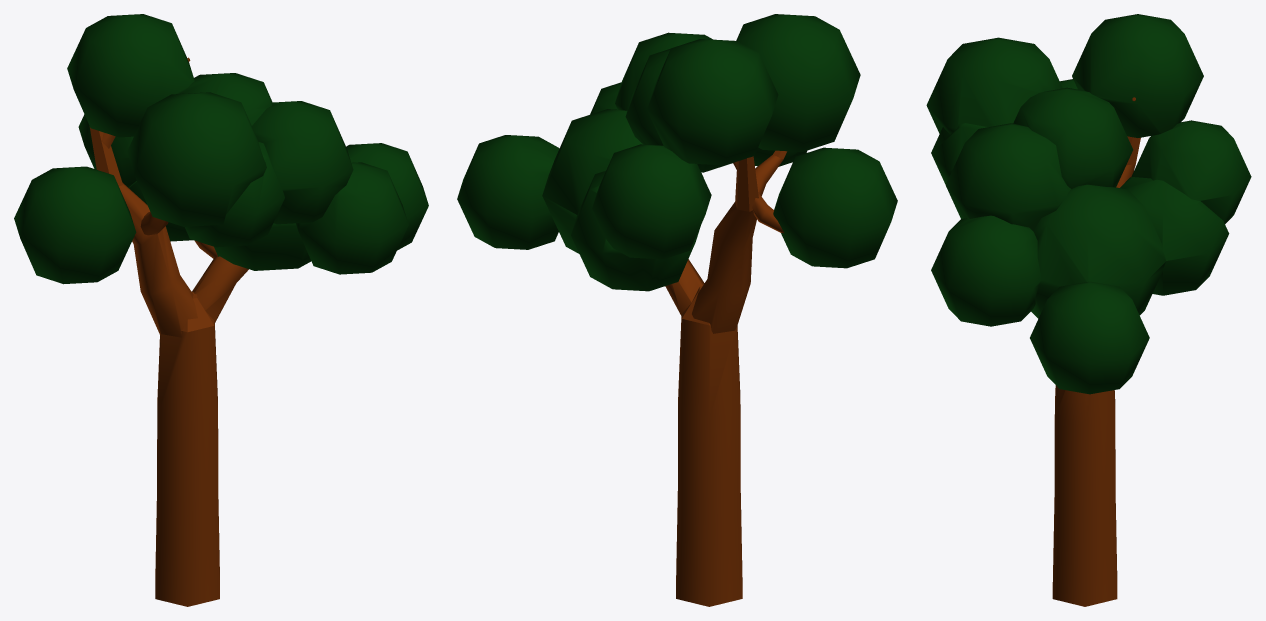
3 views of the same model, side by side, from view 1: azimuth 30°, elevation 25°; view 2: azimuth 150°, elevation 25°; view 3: azimuth 270°, elevation 25° (orthographic). The views are drawn at different scales.
Visible parts, largest first — view 1: Sphere005, Cylinder001; view 2: Sphere005, Cylinder001; view 3: Sphere005, Cylinder001.
Part boxes in pixels (box(x1,y1,x2,y2)): Sphere005: box(14, 14, 428, 284); Cylinder001: box(89, 57, 248, 606); Sphere005: box(457, 14, 897, 291); Cylinder001: box(665, 150, 787, 606); Sphere005: box(926, 14, 1251, 394); Cylinder001: box(1052, 97, 1140, 606).
Bounding box in the file's own units: 6.17 × 8.11 × 4.26.
